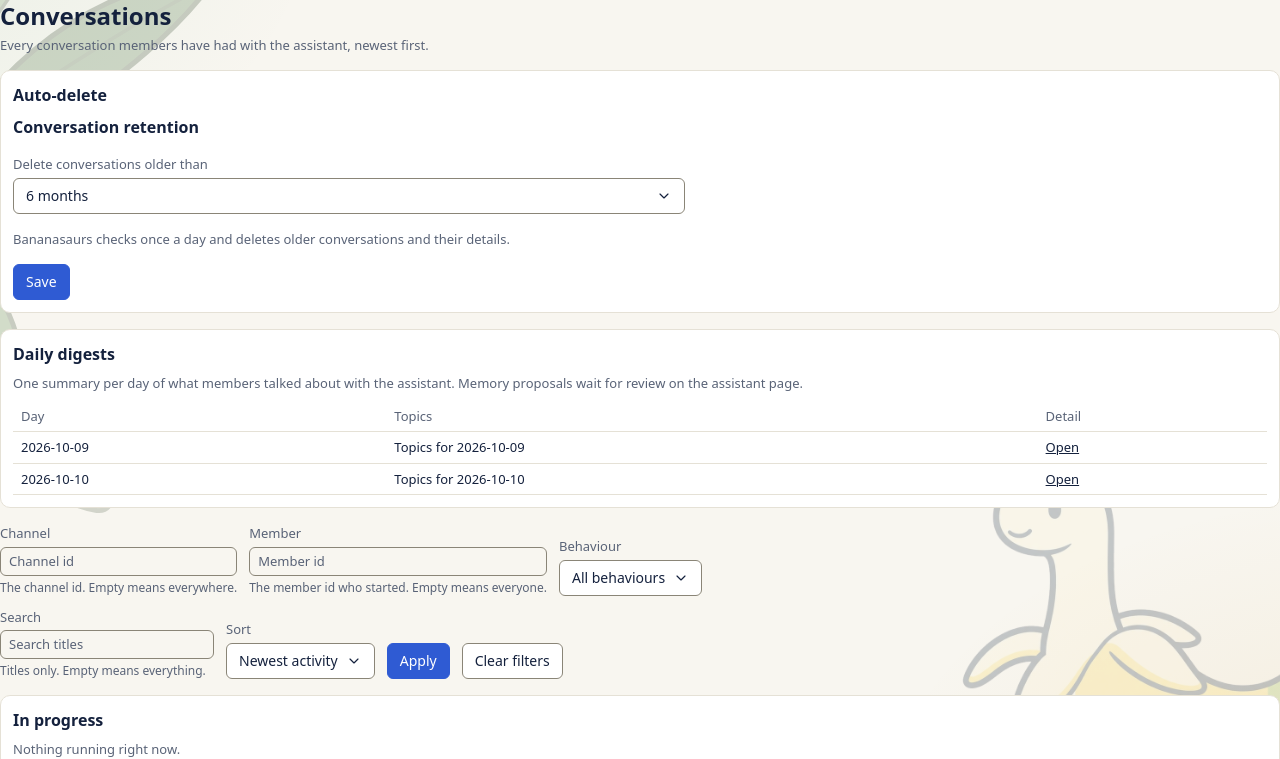
Test case: shows a detail error and allows retry
Click the button "Open" in the row of "Topics for 2026-10-09".
click(1062, 448)  # box [1046,438,1079,457]
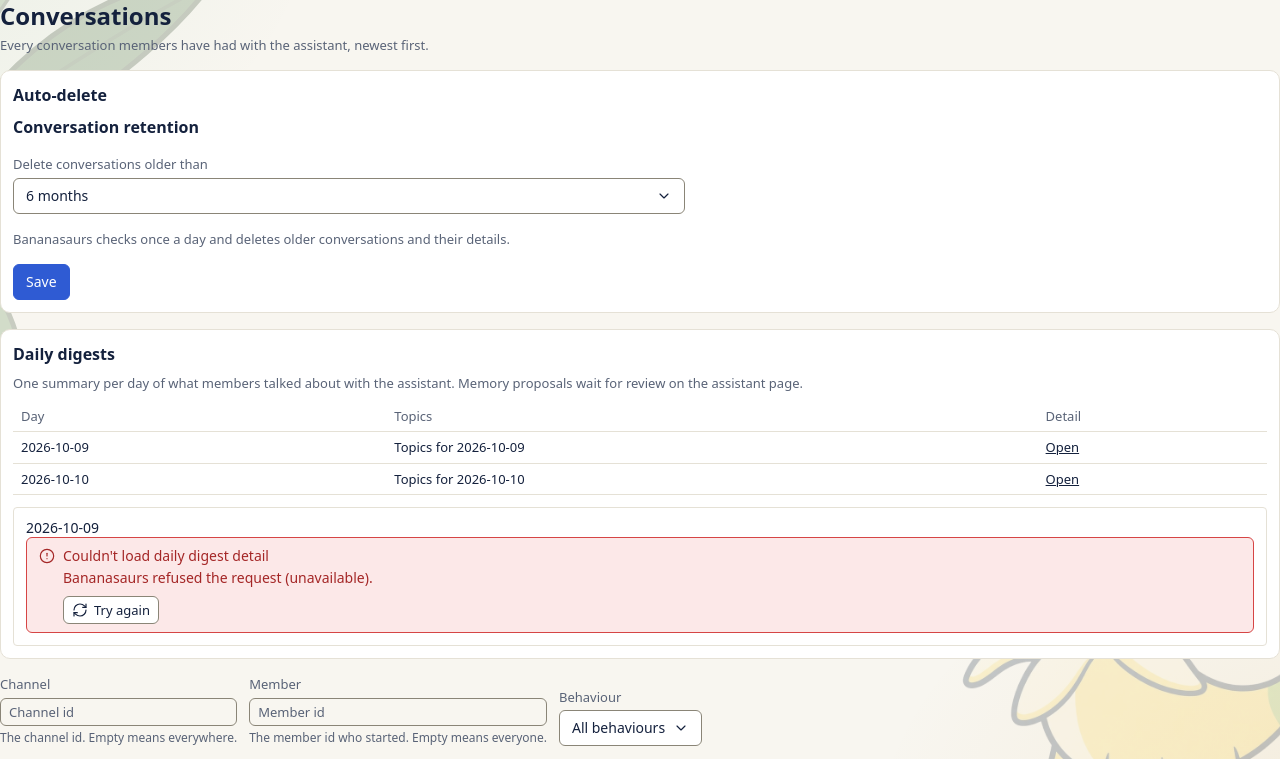
Expected: the text "Couldn't load daily digest detail" is shown, [63,546,269,565]
Click the button "Try again".
click(111, 610)  # box [63,596,159,624]
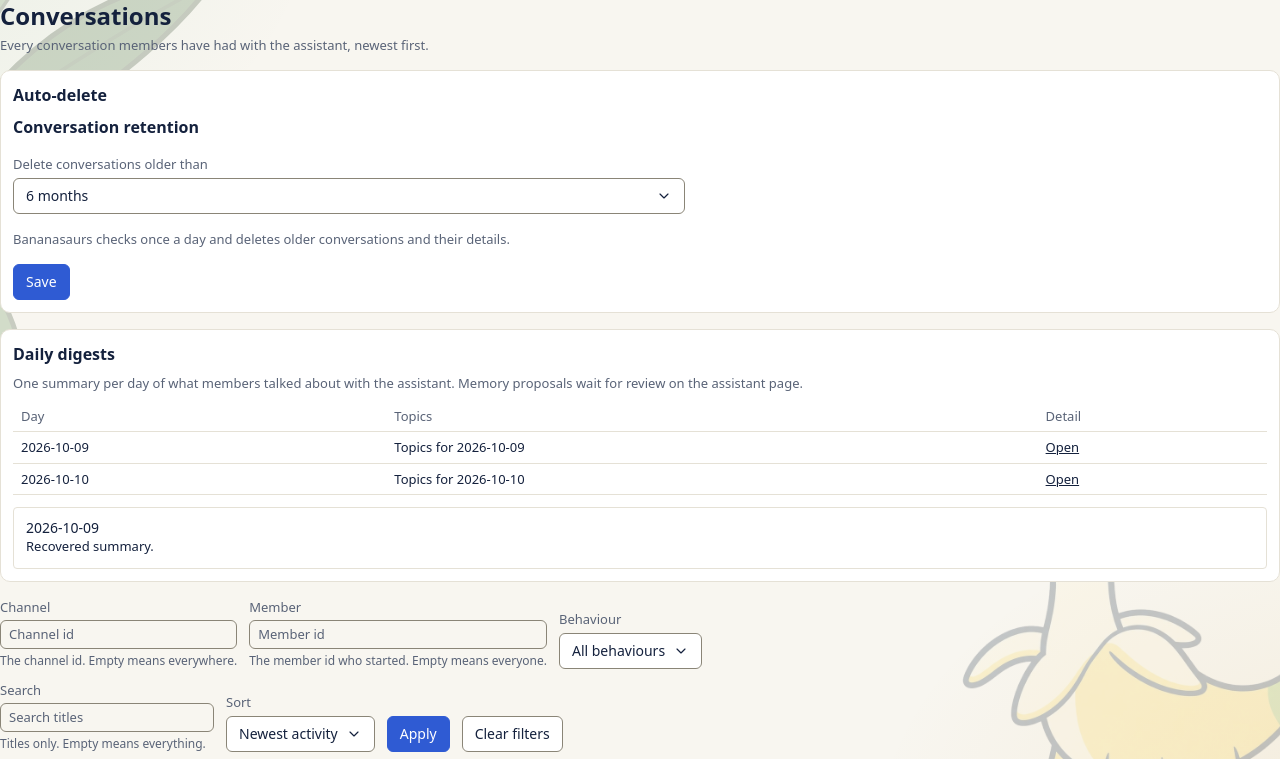
Expected: the text "Recovered summary." is shown, [26,537,154,555]
